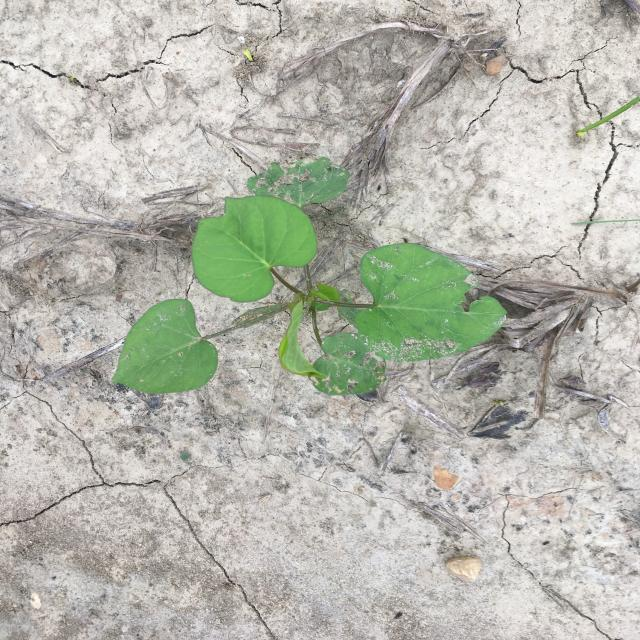MorningGlory: (111, 156, 507, 396)
